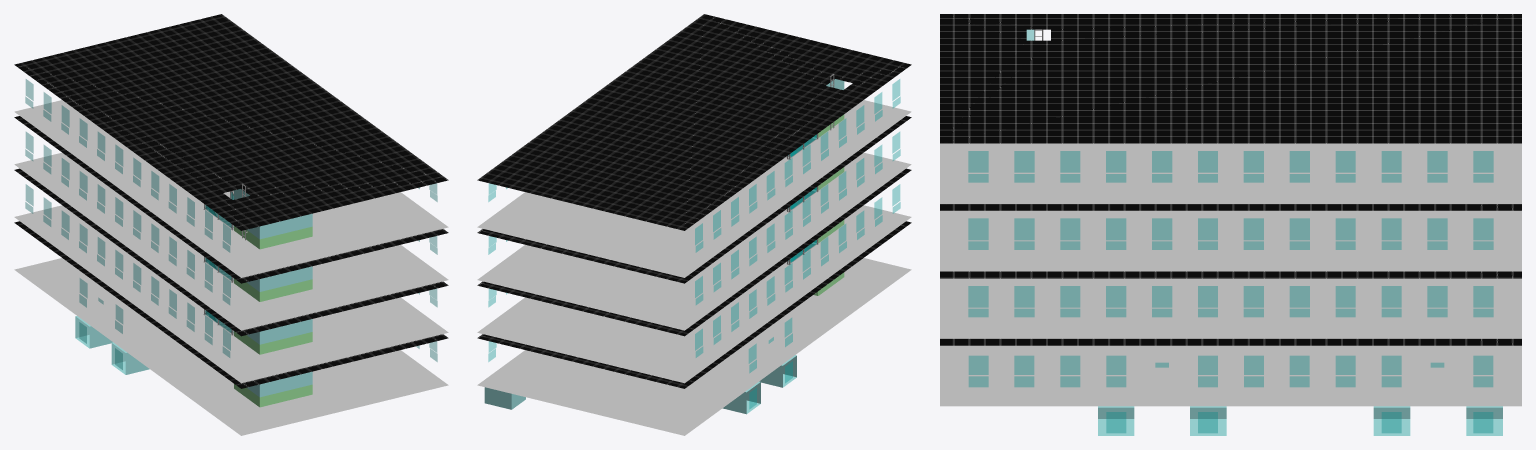
The model's file is SM_Building09_V3_Interior.fbx.
3 renders of one model, left to right at view 1: azimuth 30°, elevation 25°; view 2: azimuth 150°, elevation 25°; view 3: azimuth 270°, elevation 25°, orthographic. The views are drawn at different scales.
Parts seen in each view (by area): view 1: SM_Building09_V3_Interior; view 2: SM_Building09_V3_Interior; view 3: SM_Building09_V3_Interior.
Part boxes in pixels (left/top/right/bottom): SM_Building09_V3_Interior: left=14, top=14, right=448, bottom=435; SM_Building09_V3_Interior: left=477, top=14, right=911, bottom=435; SM_Building09_V3_Interior: left=940, top=14, right=1521, bottom=435.
Bounding box in the file's own units: 1675 × 1817 × 3169.
